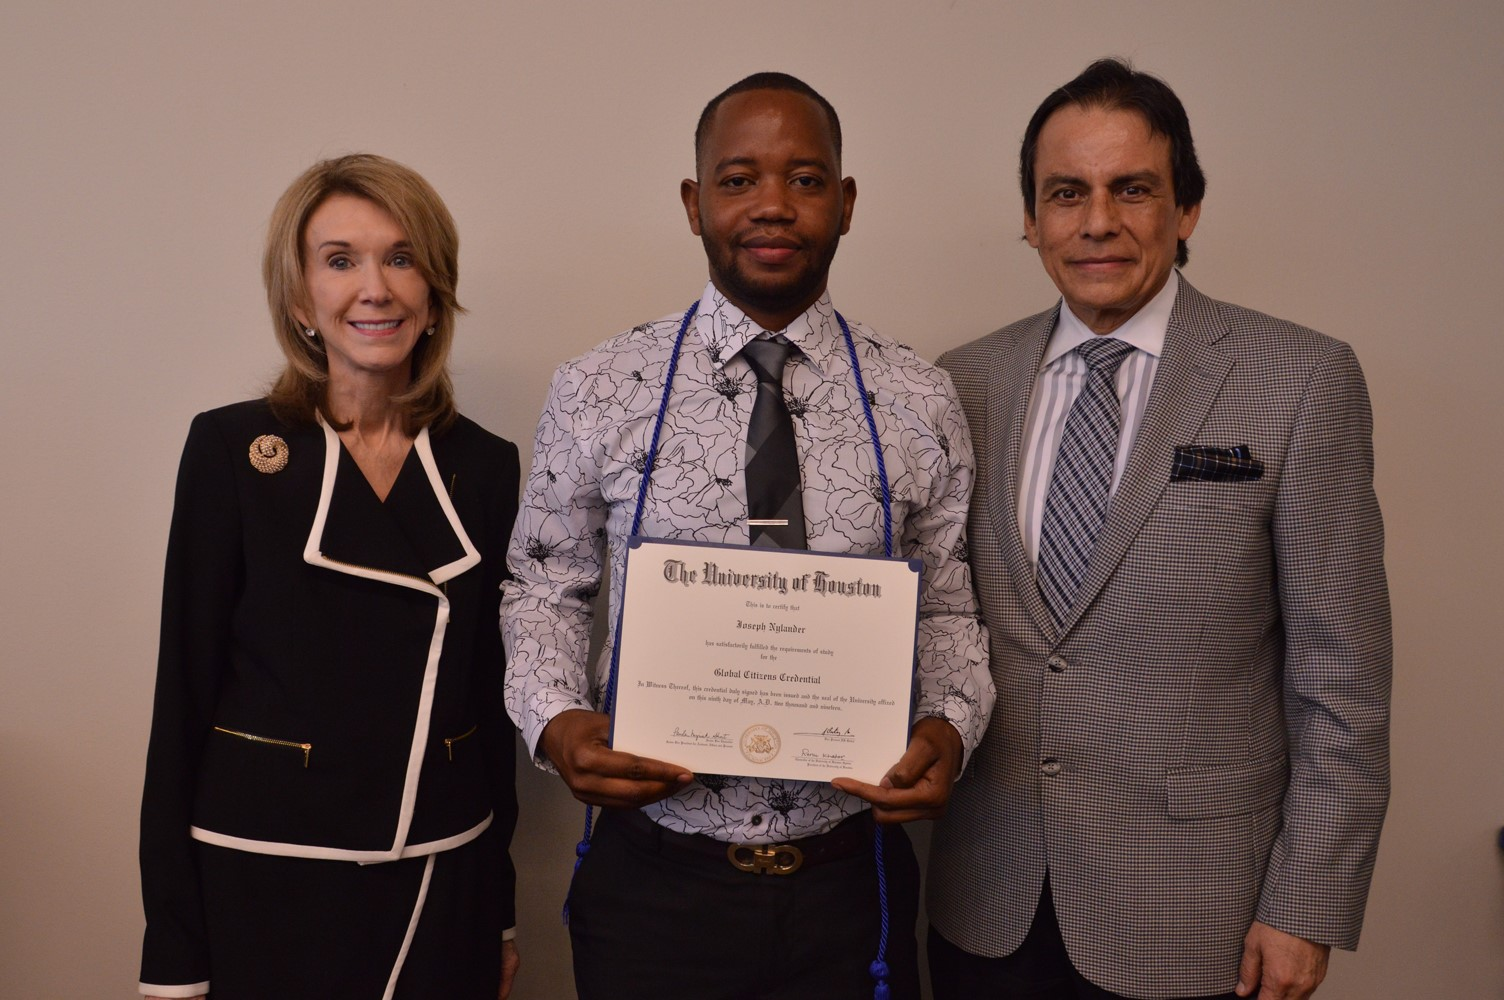face_no_mask: (1014, 71, 1204, 322), (287, 166, 464, 413), (686, 70, 858, 293)
